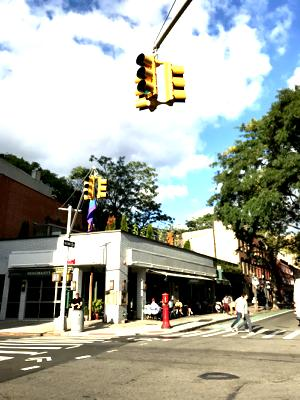International Road Signal Light: (134, 53, 158, 109), (167, 61, 186, 104), (83, 176, 94, 200)
